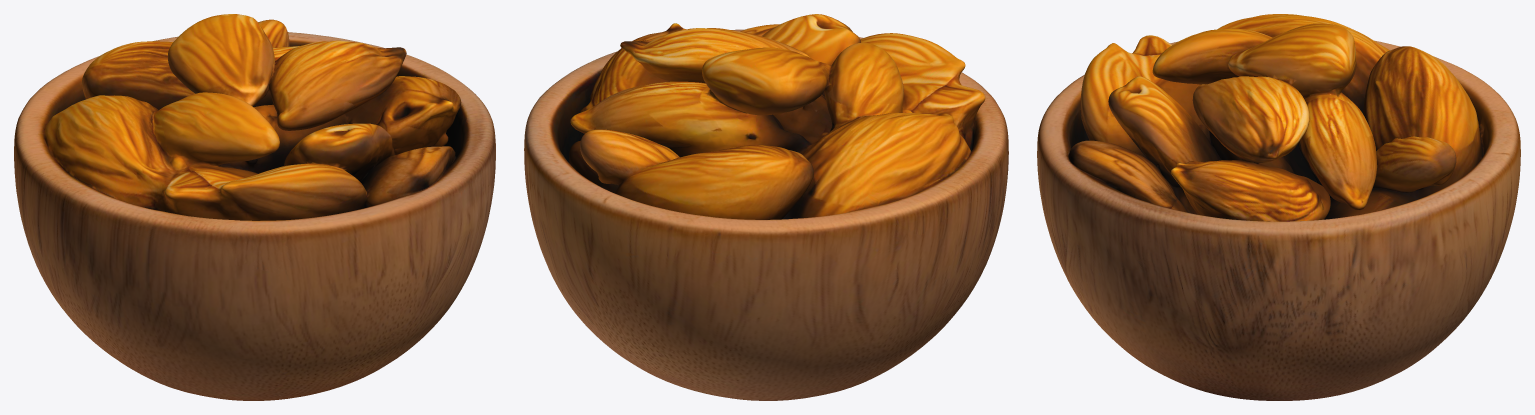
The model's file is almond.glb.
3 renders of one model, left to right at view 1: azimuth 30°, elevation 25°; view 2: azimuth 150°, elevation 25°; view 3: azimuth 270°, elevation 25°, orthographic.
Parts seen in each view (by area): view 1: vrin_node_ea4160c6-29ec-45a3-9dc5-edac64bbde46; view 2: vrin_node_ea4160c6-29ec-45a3-9dc5-edac64bbde46; view 3: vrin_node_ea4160c6-29ec-45a3-9dc5-edac64bbde46.
Boxes of the visible parts, x1,y1,x2,y2 form: vrin_node_ea4160c6-29ec-45a3-9dc5-edac64bbde46: (14, 14, 495, 400); vrin_node_ea4160c6-29ec-45a3-9dc5-edac64bbde46: (524, 14, 1008, 400); vrin_node_ea4160c6-29ec-45a3-9dc5-edac64bbde46: (1037, 14, 1520, 400).
Size of the model in its own units: 0.9999 by 0.7498 by 0.9992.
1 material, 1 textured.
